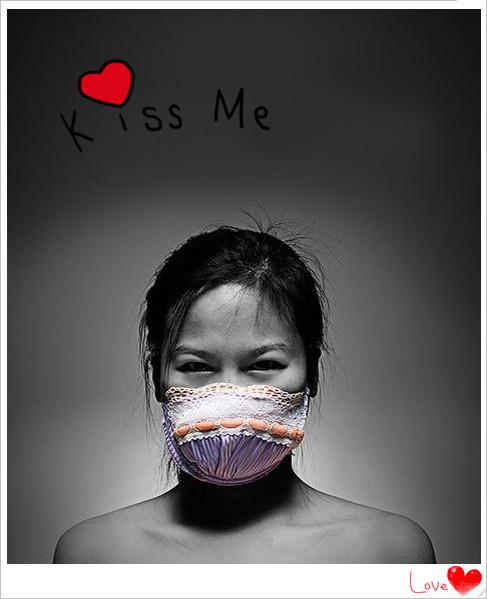OK: (161, 335, 301, 475)
